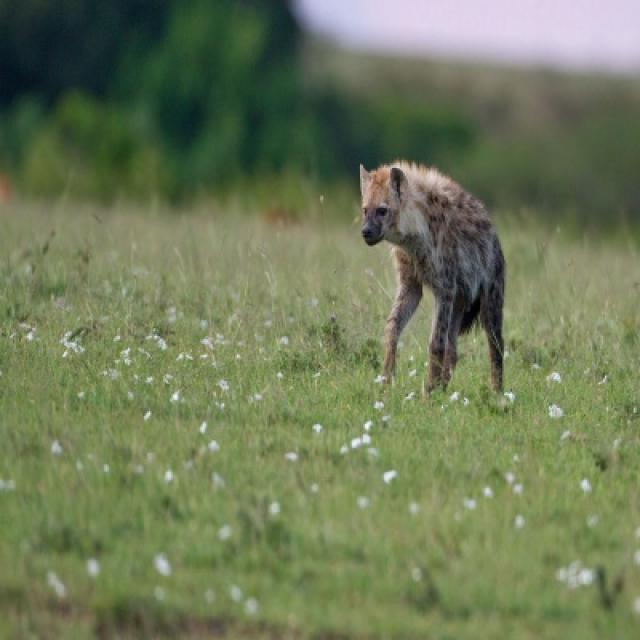hyena: (360, 160, 507, 405)
